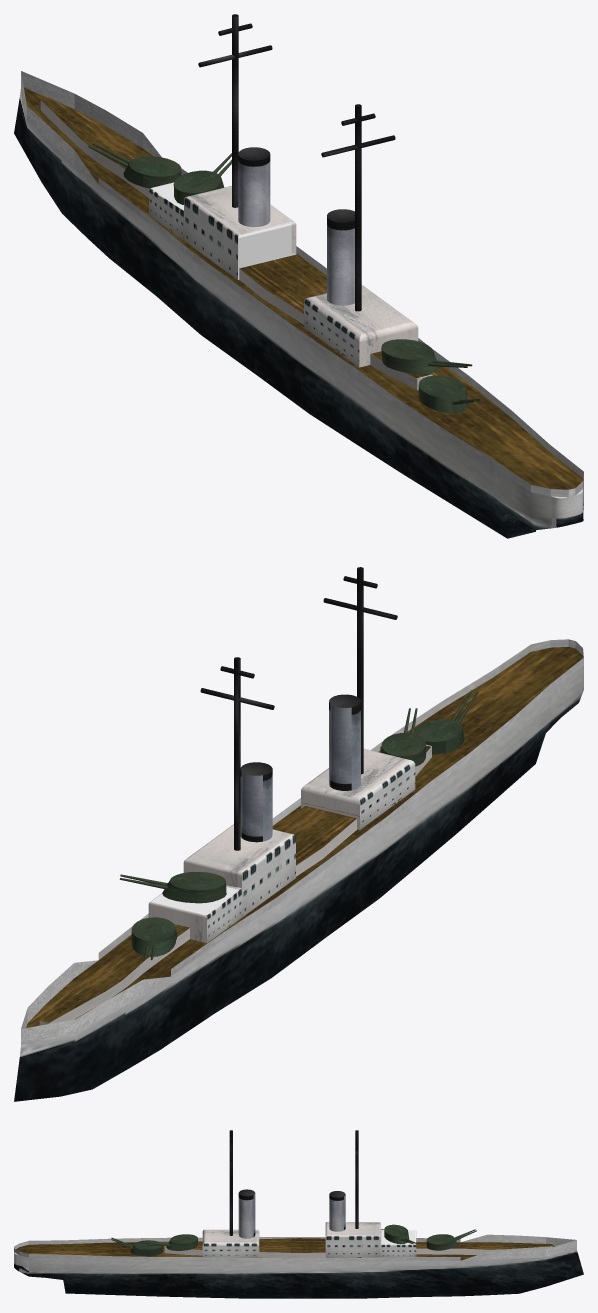
File: warship.fbx
3 renders of one model, top to bottom at view 1: azimuth 30°, elevation 25°; view 2: azimuth 150°, elevation 25°; view 3: azimuth 270°, elevation 25°, orthographic. The views are drawn at different scales.
Visible parts, largest first — view 1: pCube1, pCube3, pCube2, pCube4, pCylinder14, pCylinder13, polySurface7, polySurface6, polySurface3, polySurface5, polySurface2, polySurface4; view 2: pCube1, pCube3, pCube2, pCube4, pCylinder14, pCylinder13, polySurface4, polySurface6, polySurface7, polySurface5, polySurface2, polySurface3; view 3: pCube1, pCube2, pCube3, pCube4, pCylinder14, pCylinder13, polySurface5, polySurface3, polySurface2, polySurface4, polySurface7, polySurface6.
Part boxes in pixels (left/top/right/bottom): pCube1: left=14, top=71, right=583, bottom=538; pCube3: left=149, top=182, right=296, bottom=279; pCube2: left=40, top=97, right=432, bottom=390; pCube4: left=304, top=285, right=418, bottom=367; pCylinder14: left=327, top=209, right=354, bottom=305; pCylinder13: left=238, top=147, right=270, bottom=227; polySurface7: left=321, top=104, right=395, bottom=311; polySurface6: left=198, top=14, right=272, bottom=207; polySurface3: left=381, top=339, right=472, bottom=373; polySurface5: left=88, top=142, right=181, bottom=188; polySurface2: left=418, top=375, right=481, bottom=413; polySurface4: left=173, top=153, right=231, bottom=204; pCube1: left=14, top=639, right=583, bottom=1101; pCube3: left=148, top=824, right=295, bottom=942; pCube2: left=39, top=744, right=431, bottom=1025; pCube4: left=301, top=748, right=415, bottom=829; pCylinder14: left=329, top=694, right=360, bottom=790; pCylinder13: left=240, top=762, right=272, bottom=842; polySurface4: left=119, top=871, right=226, bottom=903; polySurface6: left=200, top=657, right=274, bottom=850; polySurface7: left=323, top=567, right=397, bottom=774; polySurface5: left=131, top=917, right=176, bottom=960; polySurface2: left=415, top=690, right=478, bottom=754; polySurface3: left=380, top=708, right=426, bottom=766; pCube1: left=14, top=1234, right=583, bottom=1298; pCube2: left=164, top=1238, right=552, bottom=1257; pCube3: left=325, top=1222, right=416, bottom=1257; pCube4: left=202, top=1229, right=259, bottom=1257; pCylinder14: left=238, top=1189, right=255, bottom=1238; pCylinder13: left=329, top=1191, right=345, bottom=1231; polySurface5: left=426, top=1229, right=476, bottom=1250; polySurface3: left=146, top=1234, right=197, bottom=1250; polySurface2: left=111, top=1237, right=162, bottom=1256; polySurface4: left=384, top=1224, right=416, bottom=1244; polySurface7: left=229, top=1130, right=232, bottom=1235; polySurface6: left=355, top=1130, right=358, bottom=1228.
Size of the model in its own units: 1.68 by 4.84 by 15.73.
